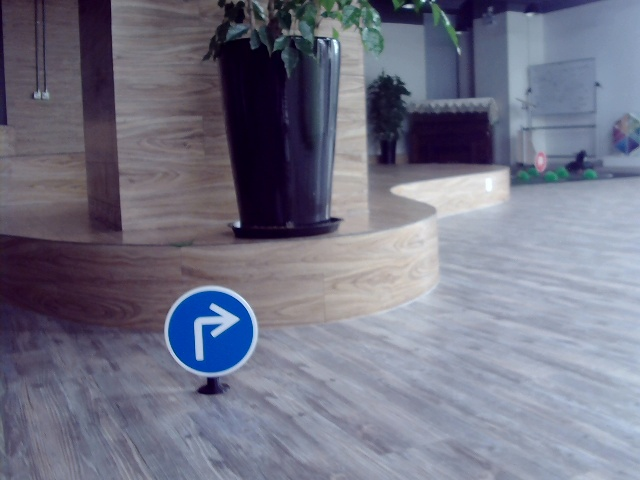turn_right: (188, 302, 238, 366)
